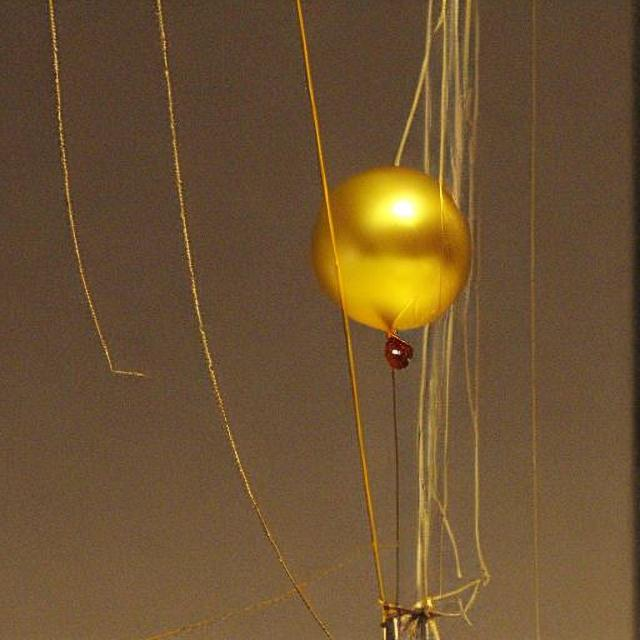balloon: (305, 160, 473, 342)
